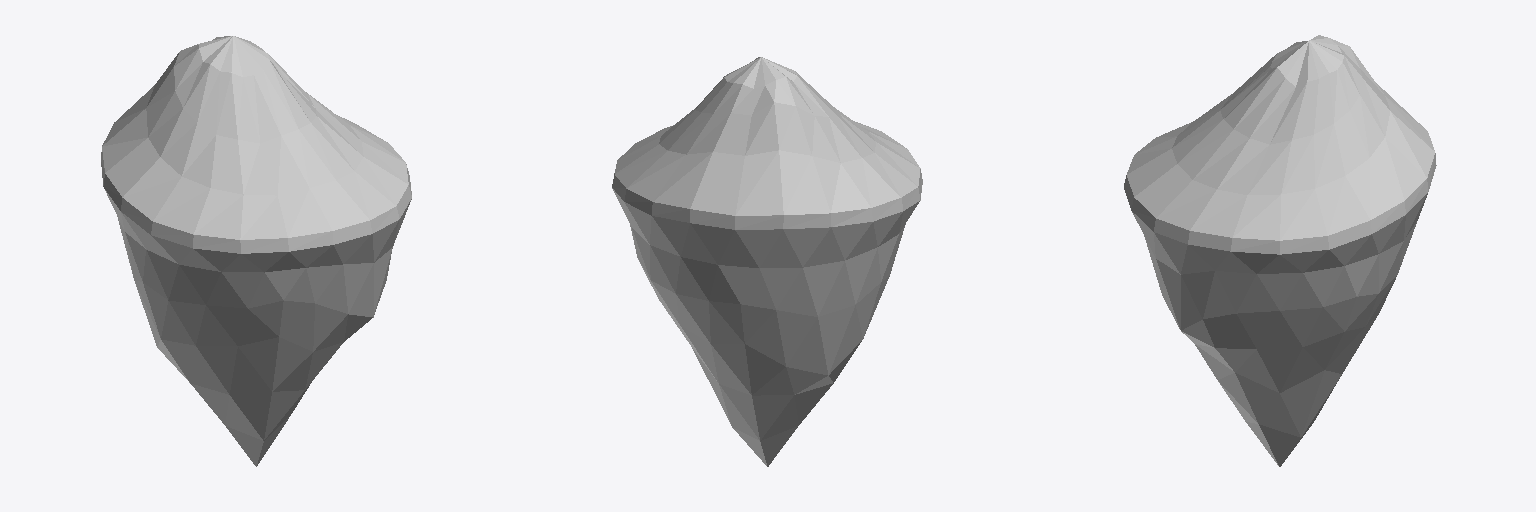
File: small_island.obj
3 views of the same model, side by side, from view 1: azimuth 30°, elevation 25°; view 2: azimuth 150°, elevation 25°; view 3: azimuth 270°, elevation 25° (orthographic).
Parts seen in each view (by area): view 1: Icosphere; view 2: Icosphere; view 3: Icosphere.
Part boxes in pixels (x1,y1,x2,y2): Icosphere: (101,36,411,466); Icosphere: (612,57,922,466); Icosphere: (1124,35,1436,466).
Bounding box in the file's own units: 10.5 × 15.68 × 10.51.